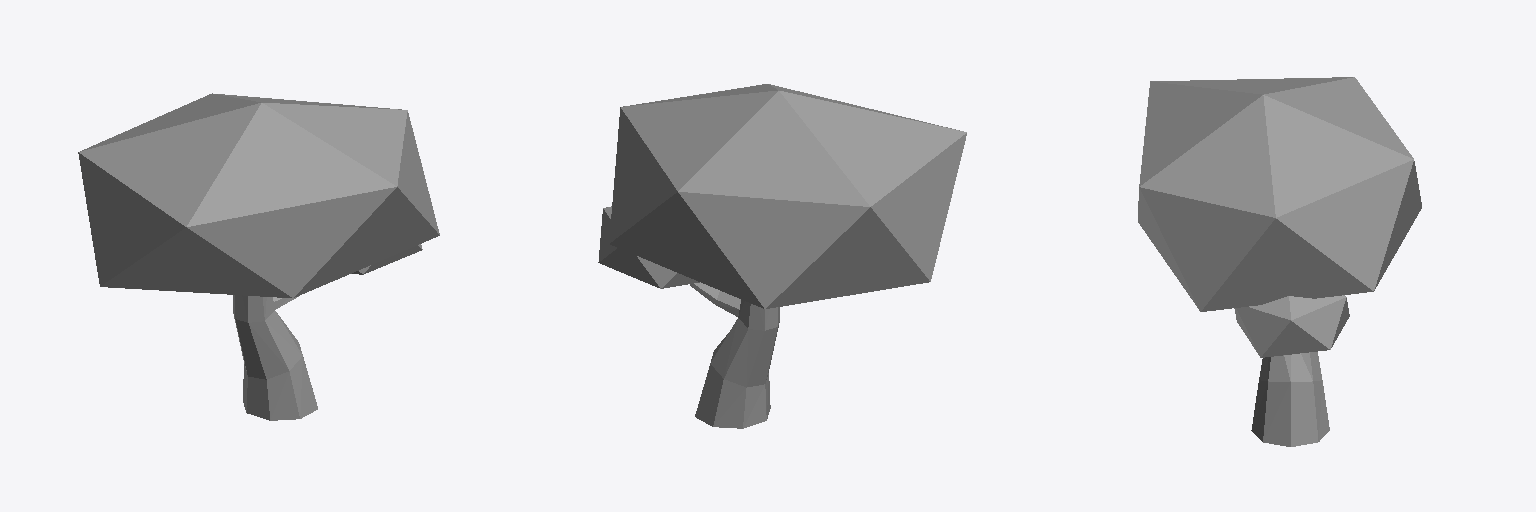
Rendered from Bush2.obj.
3 views of the same model, side by side, from view 1: azimuth 30°, elevation 25°; view 2: azimuth 150°, elevation 25°; view 3: azimuth 270°, elevation 25° (orthographic).
Parts seen in each view (by area): view 1: Icosphere.001_Icosphere.002; view 2: Icosphere.001_Icosphere.002; view 3: Icosphere.001_Icosphere.002.
Part boxes in pixels (x1,y1,x2,y2): Icosphere.001_Icosphere.002: (78, 93, 439, 420); Icosphere.001_Icosphere.002: (598, 84, 966, 428); Icosphere.001_Icosphere.002: (1138, 77, 1421, 446).
Size of the model in its own units: 0.9968 by 0.9567 by 0.7714.